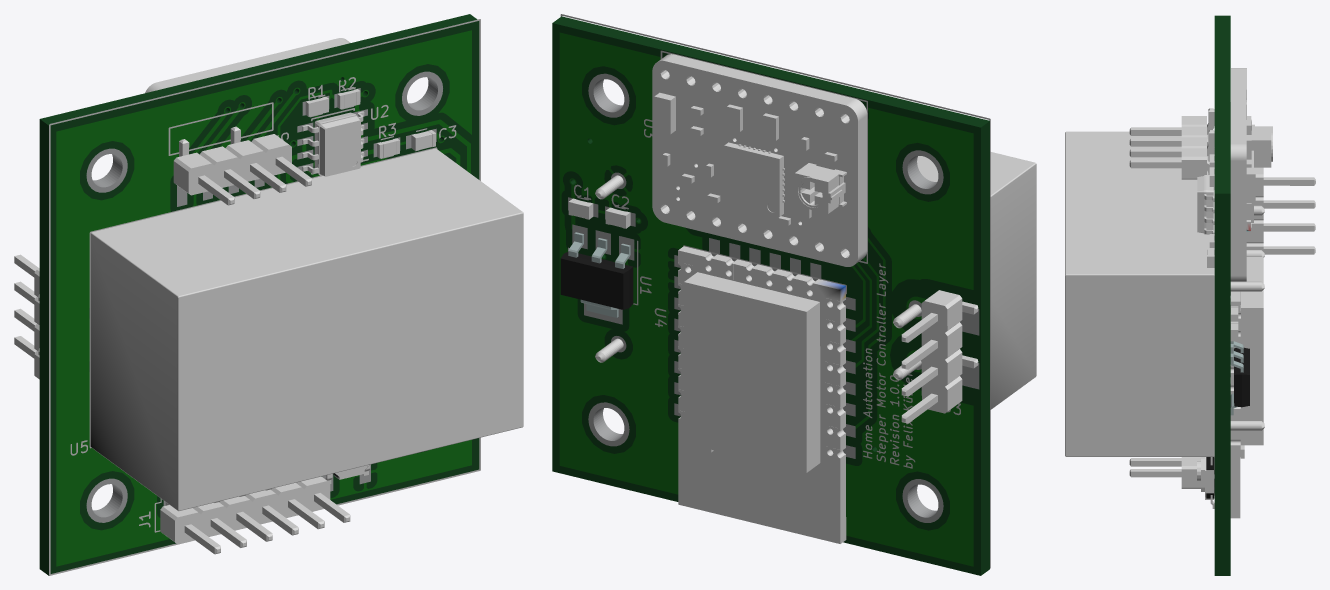
File: MotorController.dae
The picture shows the model from 3 angles, left to right: view 1: azimuth 30°, elevation 25°; view 2: azimuth 150°, elevation 25°; view 3: azimuth 270°, elevation 25°; orthographic projection. The views are drawn at different scales.
Visible parts, largest first — view 1: node; view 2: node; view 3: node.
Boxes of the visible parts, <box> form: node: <box>14,14,523,575</box>; node: <box>552,14,1036,575</box>; node: <box>1065,15,1315,575</box>.
Bounding box in the file's own units: 42.45 × 42.47 × 25.15.
